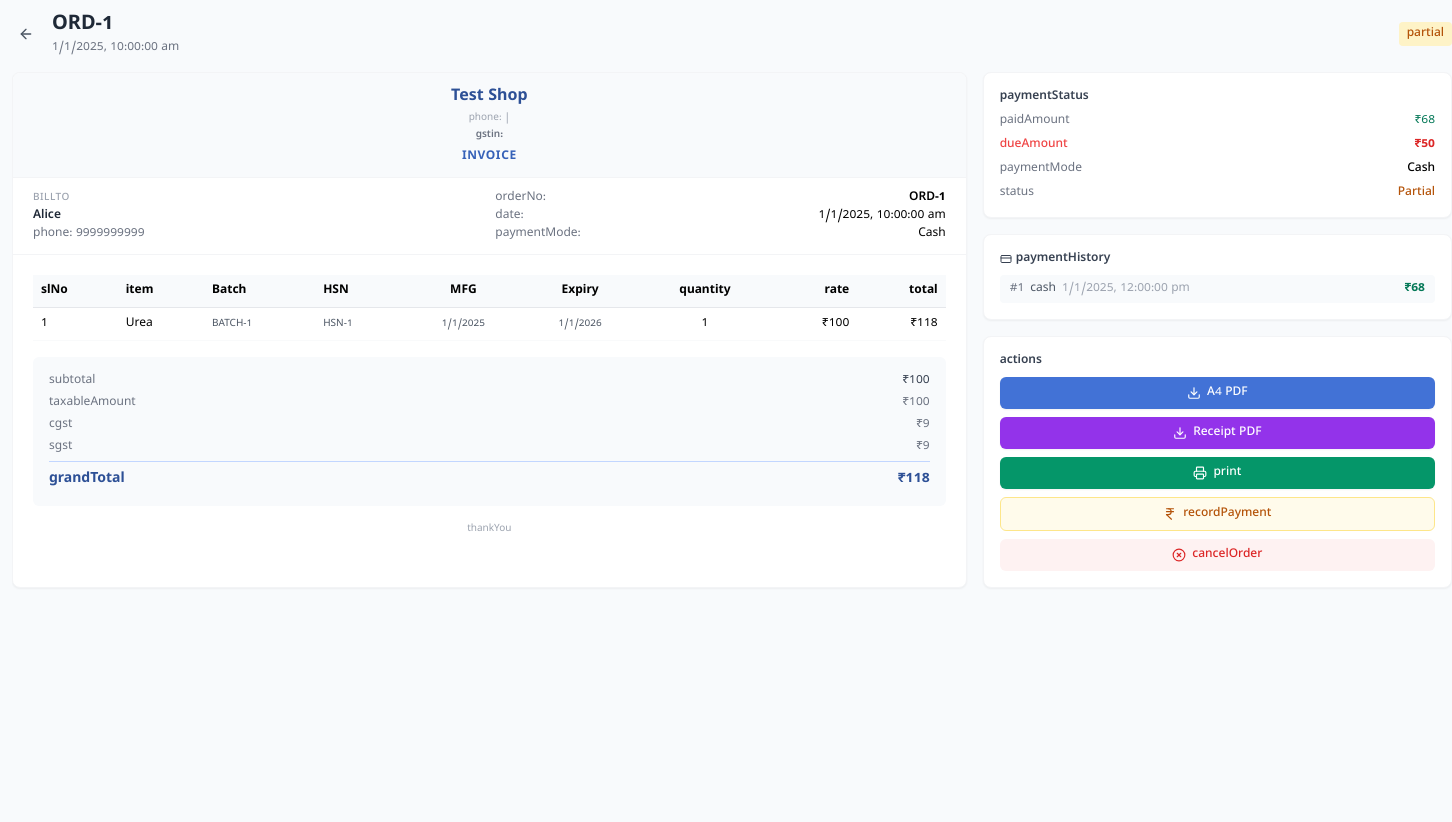
Test case: OrderDetail page › cancels the order and reloads the page data
Click the button "cancelOrder". click: point(1217, 555)
box: [1000,539,1435,571]
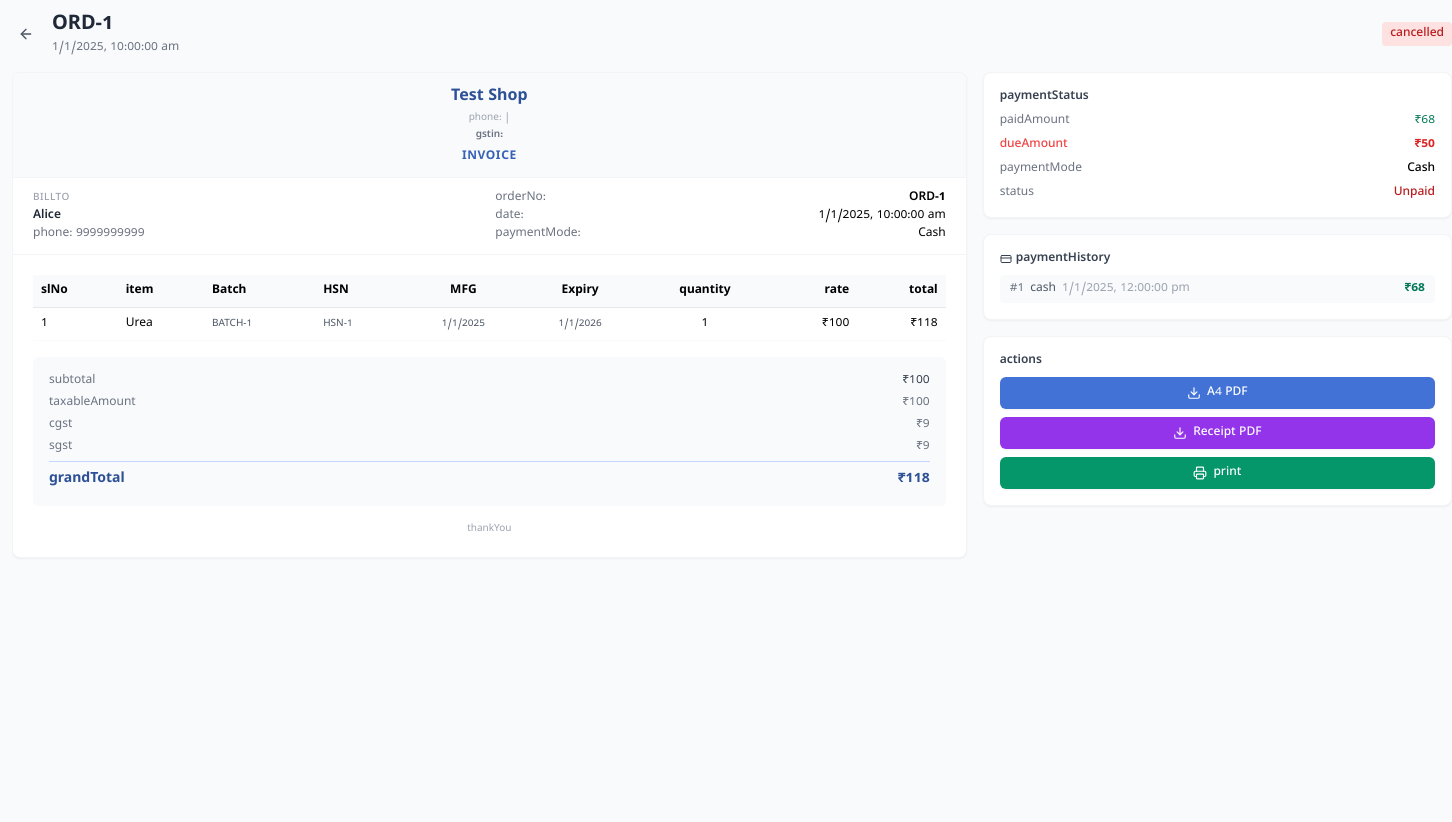
expect the text "cancelled" is shown: met, box [1382,22,1451,46]
